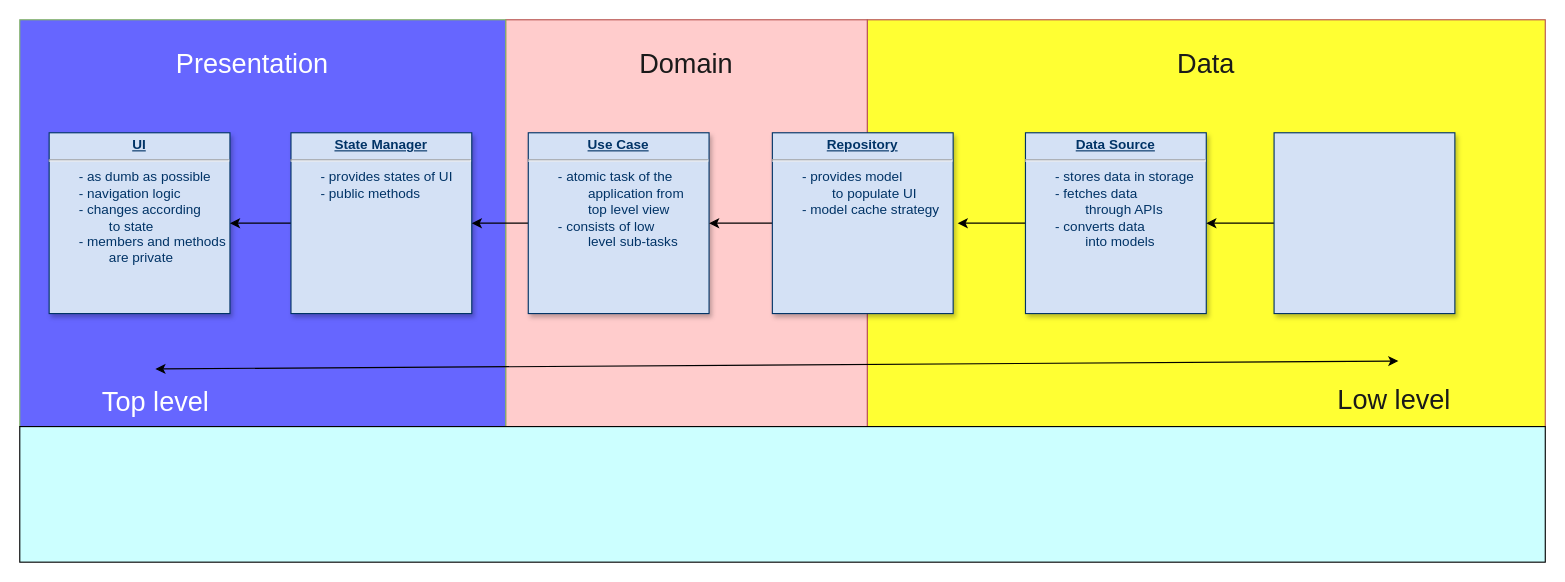
Image size: 1565x582. Some labels were removed from this diagram. Each missing label, with the centre of its shape:
component on the left depends on its immediate right: (x=782, y=493)
Model/Entity - plain class - member variables and constructor: (x=1365, y=224)
